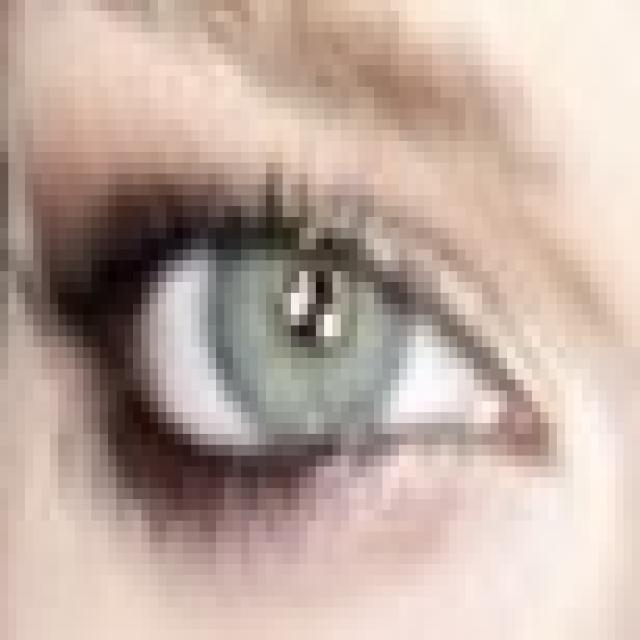Normal: (211, 170, 413, 451)
